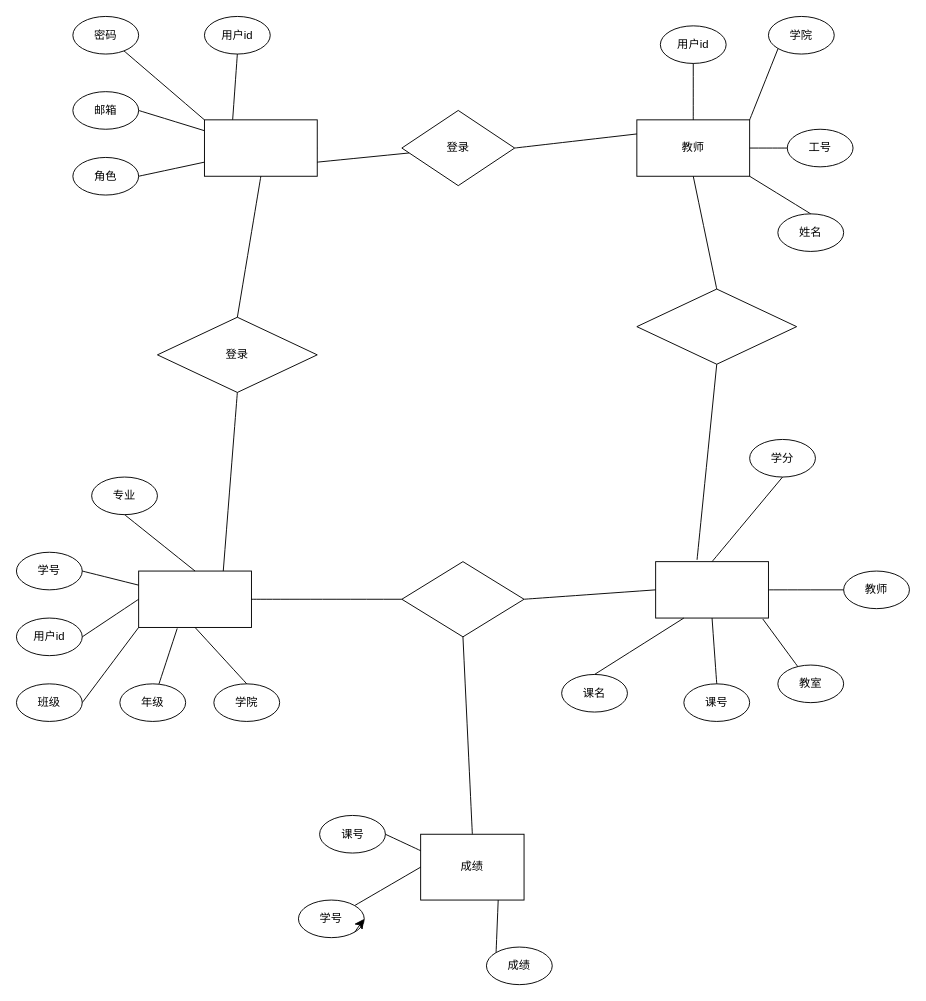
The diagram is 926 pixels wide and 1001 high, and some of its shapes have lost their labels. Here are the shapes that lost their labels. From the top down, the centre of each, then its label:
(x=260, y=147): 用户
(x=716, y=326): 授课
(x=194, y=598): 学生
(x=462, y=599): 学习
(x=711, y=589): 课程
